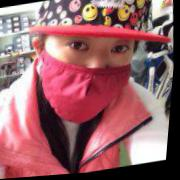WRONG: (35, 21, 143, 129)
